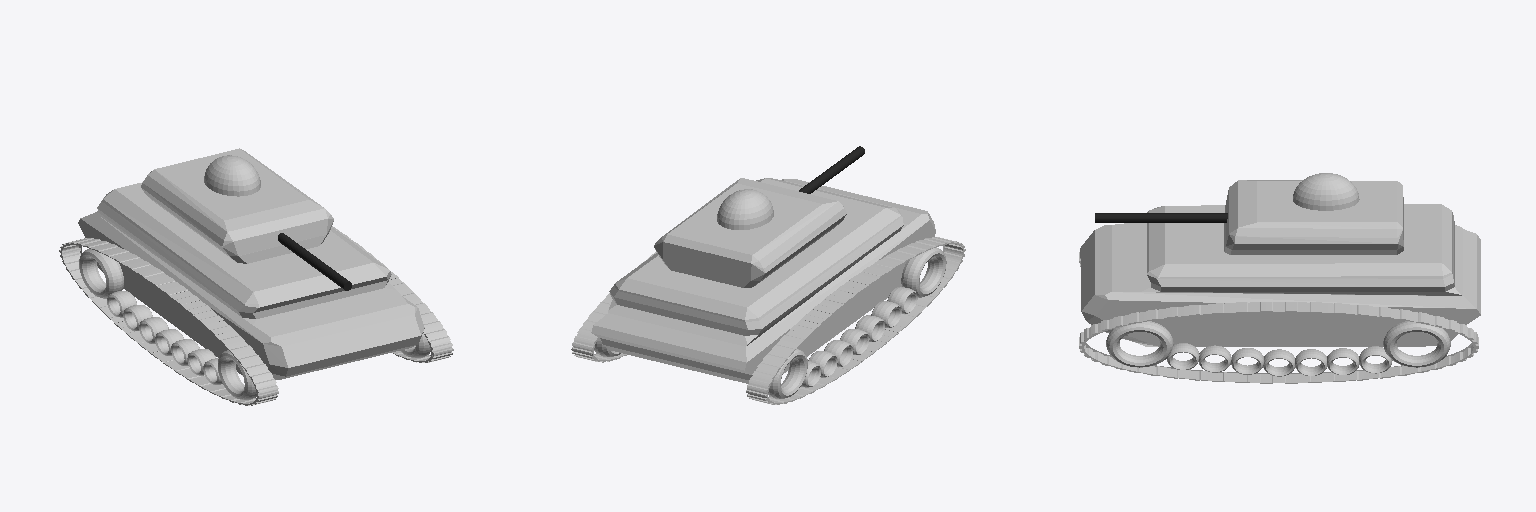
Rendered from PanzerIV.obj.
3 views of the same model, side by side, from view 1: azimuth 30°, elevation 25°; view 2: azimuth 150°, elevation 25°; view 3: azimuth 270°, elevation 25° (orthographic).
Visible parts, largest first — view 1: Cubo, Gear.001, Rosca.024, Cilindro; view 2: Cubo, Gear.001, Rosca.024, Cilindro; view 3: Cubo, Gear.001, Rosca.024, Cilindro.
Part boxes in pixels (bbox=[...]): Cubo: bbox=[78, 148, 424, 379]; Gear.001: bbox=[59, 226, 453, 405]; Rosca.024: bbox=[79, 249, 430, 399]; Cilindro: bbox=[278, 233, 351, 290]; Cubo: bbox=[591, 178, 935, 383]; Gear.001: bbox=[571, 237, 965, 404]; Rosca.024: bbox=[594, 247, 946, 398]; Cilindro: bbox=[799, 146, 864, 193]; Cubo: bbox=[1081, 173, 1480, 346]; Gear.001: bbox=[1079, 248, 1478, 383]; Rosca.024: bbox=[1106, 321, 1450, 376]; Cilindro: bbox=[1095, 213, 1227, 222].
Bounding box in the file's own units: 22.74 × 18 × 40.79.